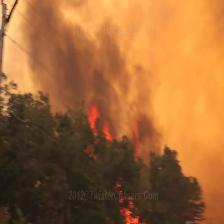fire: (81, 104, 190, 224)
smoke: (8, 0, 195, 145)
